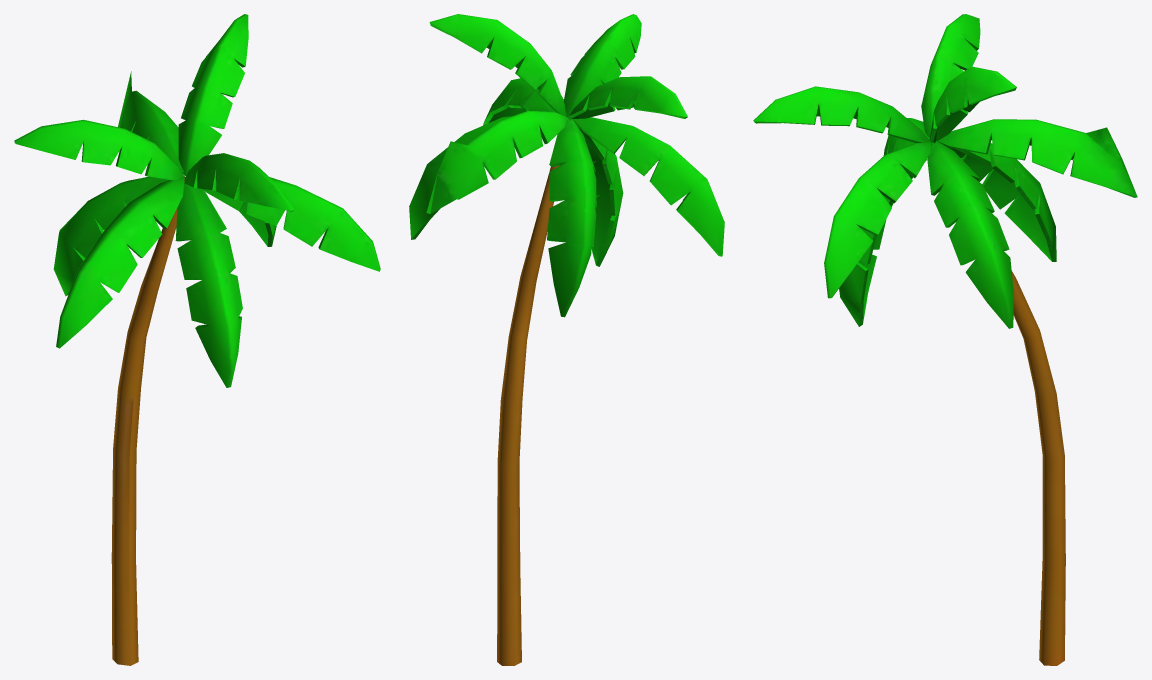
Rendered from palm_01.glb.
3 renders of one model, left to right at view 1: azimuth 30°, elevation 25°; view 2: azimuth 150°, elevation 25°; view 3: azimuth 270°, elevation 25°, orthographic. The views are drawn at different scales.
Visible parts, largest first — view 1: Palm_02; view 2: Palm_02; view 3: Palm_02.
Part boxes in pixels (x1=…): Palm_02: x1=14, y1=14, x2=380, y2=665; Palm_02: x1=409, y1=14, x2=724, y2=665; Palm_02: x1=753, y1=14, x2=1137, y2=665.
Size of the model in its own units: 7.78 by 16.35 by 9.06.
1 material, 1 textured.
